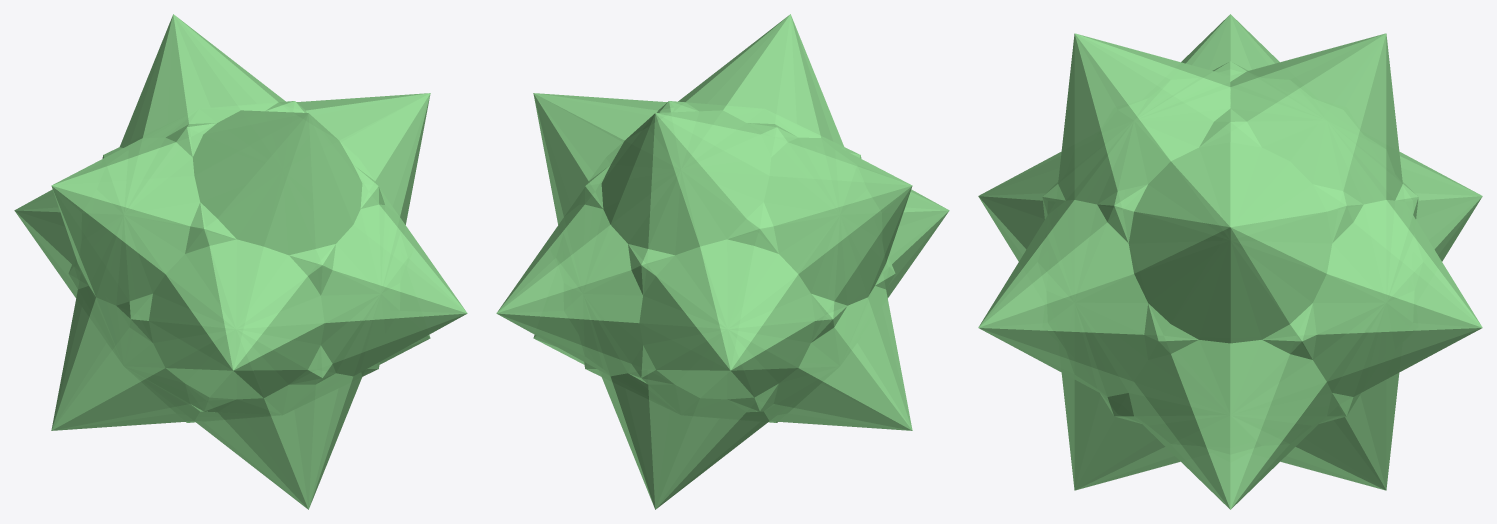
File: TridyakisIcosahedron.obj
The picture shows the model from 3 angles, left to right: view 1: azimuth 30°, elevation 25°; view 2: azimuth 150°, elevation 25°; view 3: azimuth 270°, elevation 25°; orthographic projection. The views are drawn at different scales.
Bounding box in the file's own units: 5.43 × 5.43 × 5.43.
